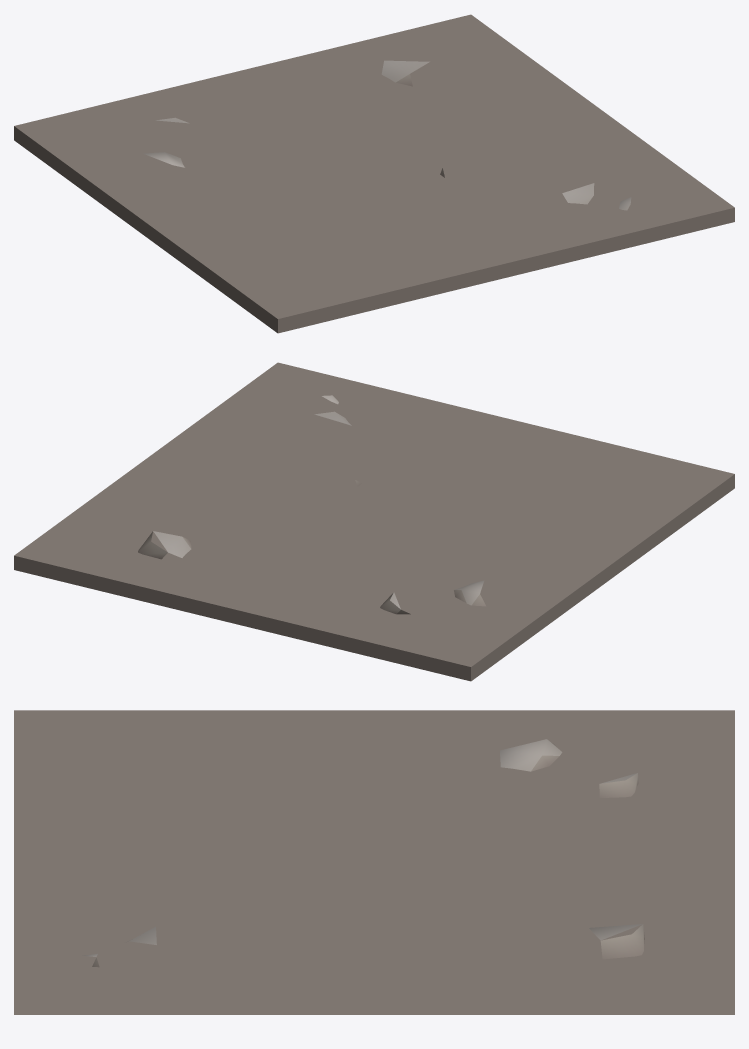
Rendered from camp_dirt-uqOzk2z4.glb.
3 views of the same model, one above another, from view 1: azimuth 30°, elevation 25°; view 2: azimuth 150°, elevation 25°; view 3: azimuth 270°, elevation 25° (orthographic). The views are drawn at different scales.
Parts seen in each view (by area): view 1: floor_dirt_large; view 2: floor_dirt_large; view 3: floor_dirt_large.
Part boxes in pixels (left/top/right/bottom): floor_dirt_large: left=14, top=14, right=734, bottom=333; floor_dirt_large: left=14, top=362, right=734, bottom=681; floor_dirt_large: left=14, top=710, right=734, bottom=1014.
Bounding box in the file's own units: 4 × 0.2086 × 4.
Materials: 1 (1 with a texture image).
